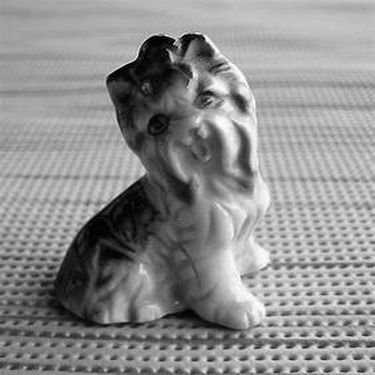dog: (38, 15, 278, 331)
